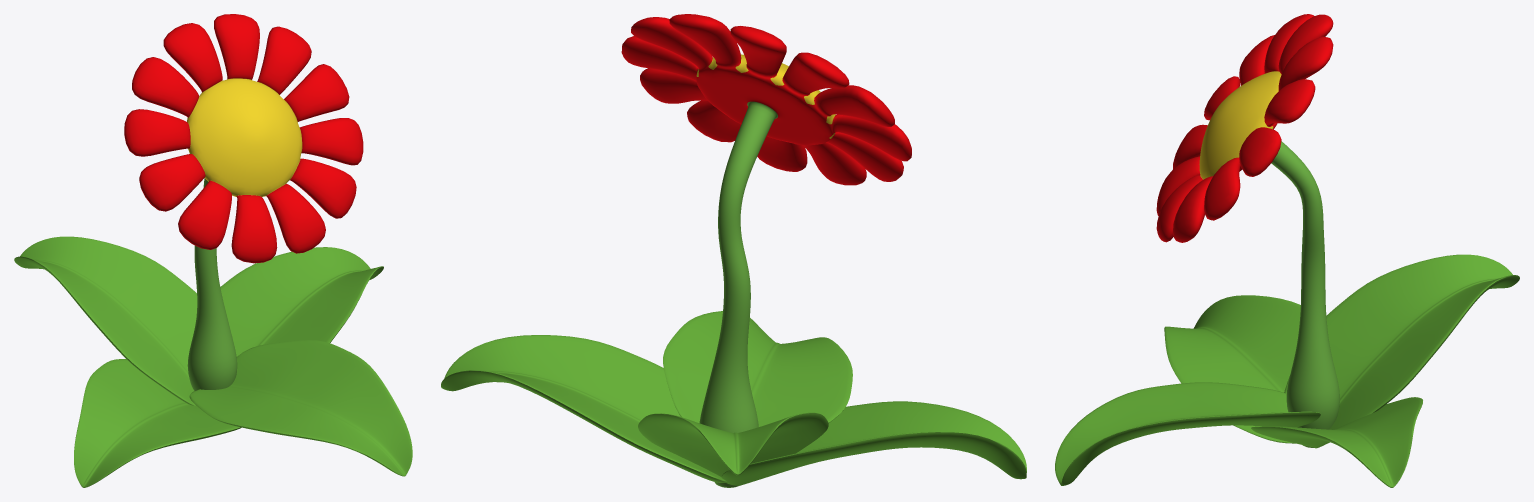
The model's file is Flower.fbx.
3 renders of one model, left to right at view 1: azimuth 30°, elevation 25°; view 2: azimuth 150°, elevation 25°; view 3: azimuth 270°, elevation 25°, orthographic. The views are drawn at different scales.
Parts seen in each view (by area): view 1: Cylinder; view 2: Cylinder; view 3: Cylinder.
Boxes of the visible parts, x1=… form: Cylinder: x1=14, y1=14, x2=412, y2=487; Cylinder: x1=441, y1=14, x2=1026, y2=487; Cylinder: x1=1055, y1=14, x2=1519, y2=487.
Size of the model in its own units: 527 by 495 by 502.
